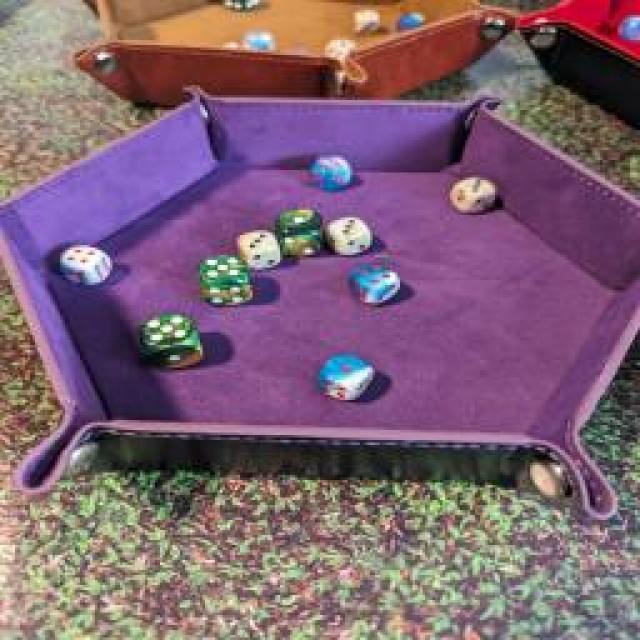dice_1: (316, 354, 379, 404), (272, 204, 326, 256), (231, 226, 289, 269)
dice_3: (448, 175, 504, 213), (324, 214, 368, 256)
dice_4: (55, 245, 117, 287), (347, 264, 405, 304)
dice_5: (136, 310, 209, 372), (196, 253, 259, 305)
dice_6: (304, 152, 358, 190)
